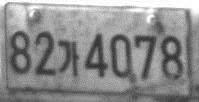0: (108, 31, 133, 79)
2: (33, 30, 56, 76)
4: (83, 32, 110, 78)
7: (134, 34, 158, 80)
8: (161, 35, 185, 80), (10, 30, 32, 73)
가: (55, 38, 81, 78)
